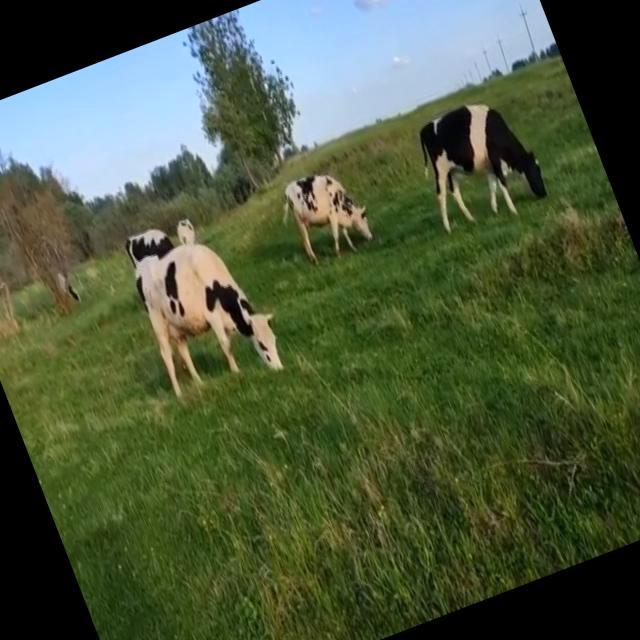COW: (126, 221, 283, 398), (420, 105, 546, 230), (284, 174, 372, 261)
